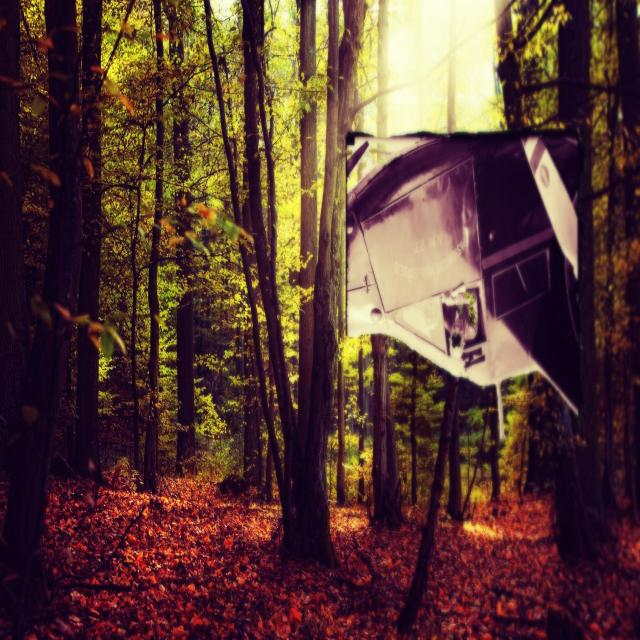airplane: (344, 127, 583, 437)
